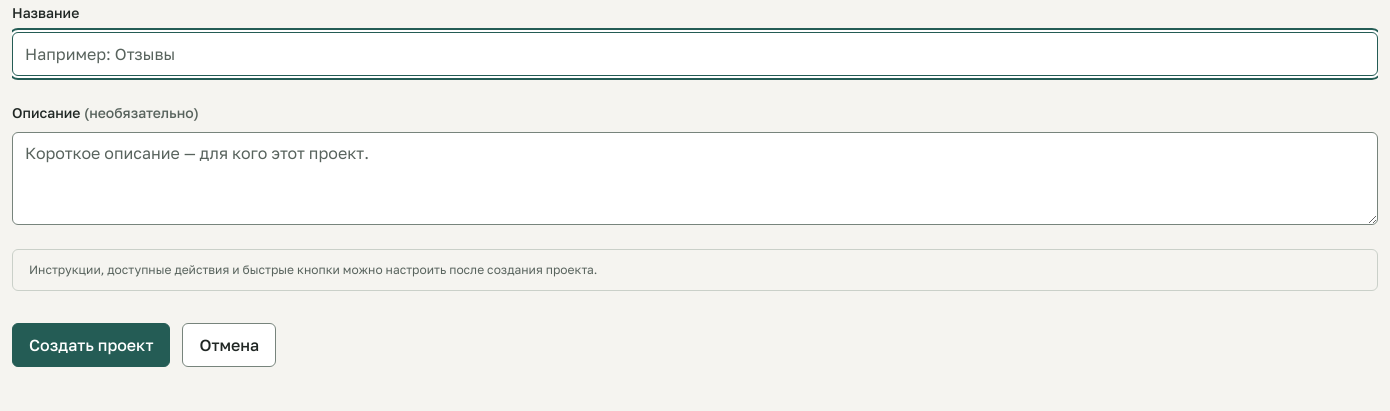
Test case: ProjectForm › shows name error when submitting with empty name
Click the button "Создать проект" at (91, 345), box [12,323,170,367]
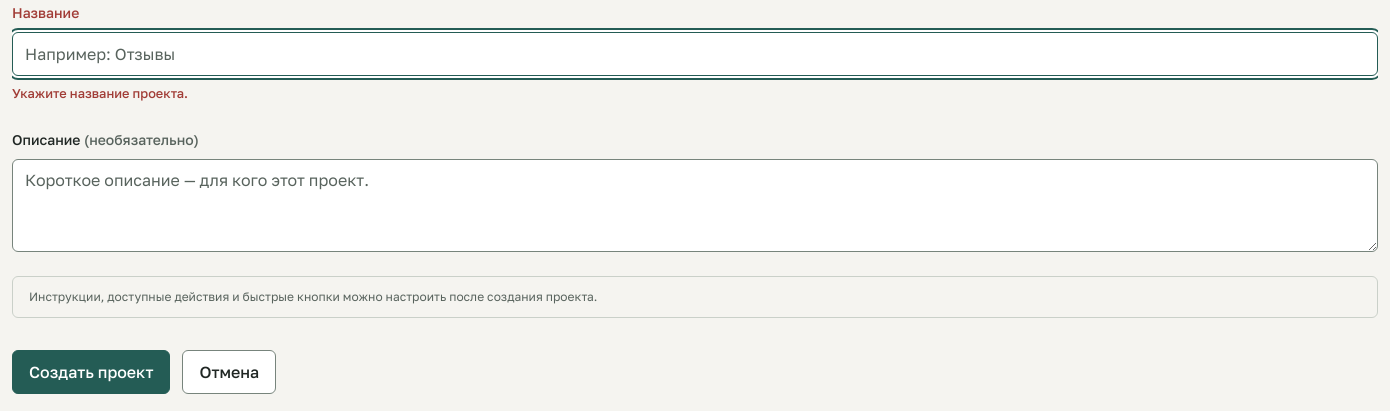
Result: the text "Укажите название проекта." is shown at [12,85,188,101]
